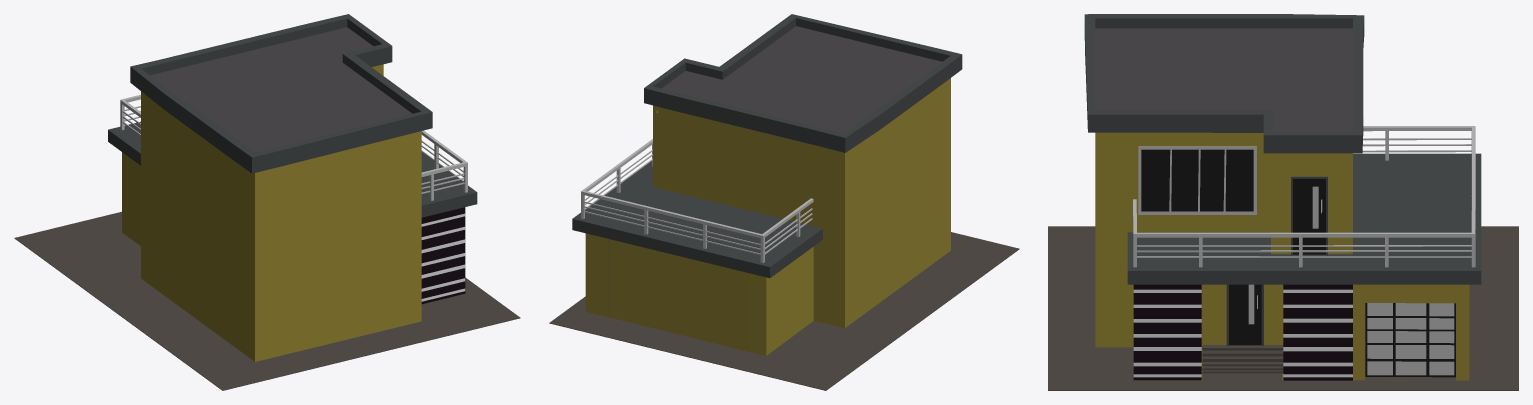
File: Building_House3_Yellow.fbx
The picture shows the model from 3 angles, left to right: view 1: azimuth 30°, elevation 25°; view 2: azimuth 150°, elevation 25°; view 3: azimuth 270°, elevation 25°; orthographic projection. The views are drawn at different scales.
Parts seen in each view (by area): view 1: Cube, Plane, Plane.002; view 2: Cube, Plane; view 3: Cube, Plane, Plane.003, Plane.001.
Boxes of the visible parts, <box> form: Cube: <box>108,14,477,361</box>; Plane: <box>14,211,520,390</box>; Plane.002: <box>421,207,464,304</box>; Cube: <box>572,14,962,355</box>; Plane: <box>549,232,1019,390</box>; Cube: <box>1084,14,1481,380</box>; Plane: <box>1048,226,1518,390</box>; Plane.003: <box>1283,284,1352,380</box>; Plane.001: <box>1133,284,1201,380</box>.
Size of the model in its own units: 1100 by 743 by 1333.
